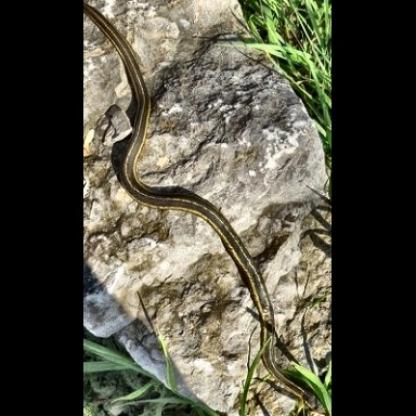Snake: (222, 228, 319, 414)
